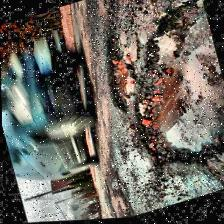pothole: (109, 0, 224, 180), (94, 43, 146, 116), (220, 166, 224, 190)
